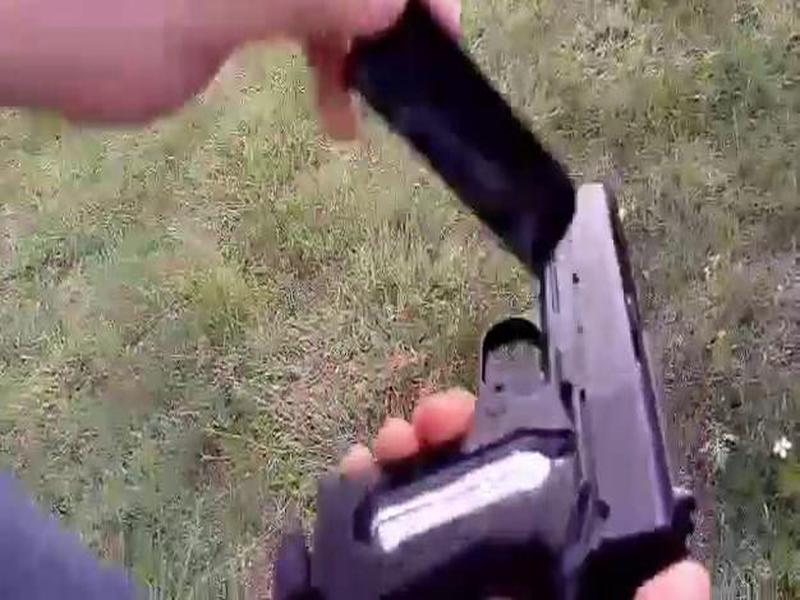Pistola: (322, 160, 678, 600)
